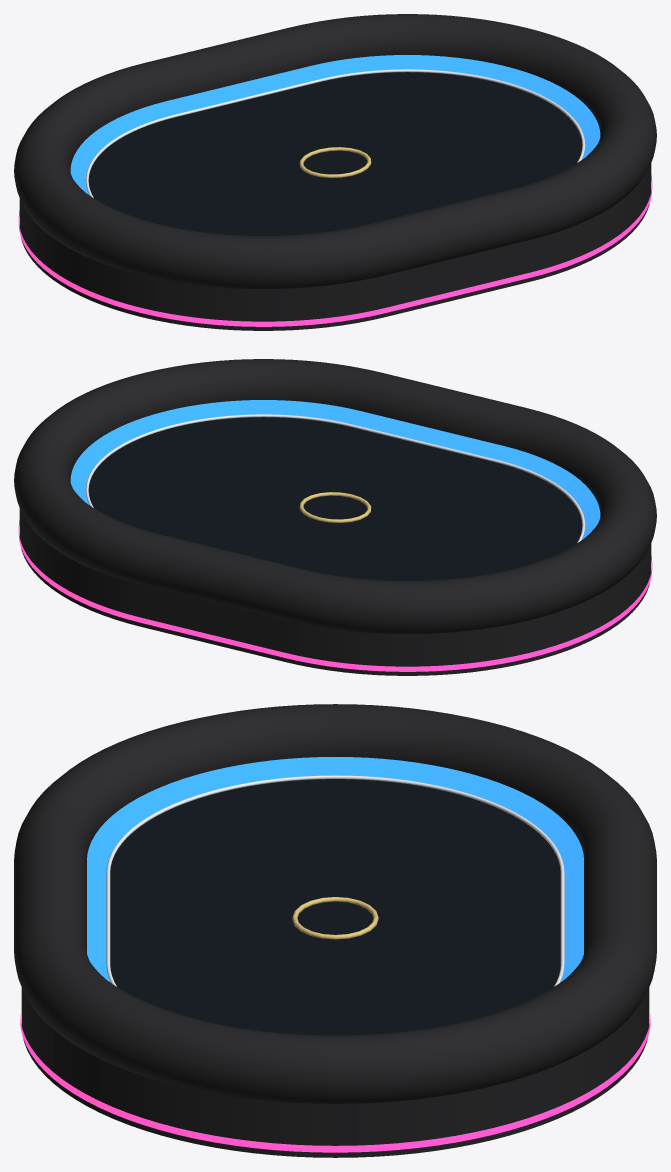
File: Tisch.glb
3 renders of one model, top to bottom at view 1: azimuth 30°, elevation 25°; view 2: azimuth 150°, elevation 25°; view 3: azimuth 270°, elevation 25°, orthographic. The views are drawn at different scales.
Visible parts, largest first — view 1: Rail, Screen, Skirt, LEDStrip, Underglow, ChromeTrim, PitEmitterRing; view 2: Rail, Screen, Skirt, LEDStrip, Underglow, ChromeTrim, PitEmitterRing; view 3: Rail, Screen, Skirt, LEDStrip, Underglow, ChromeTrim, PitEmitterRing.
Boxes of the visible parts, x1,y1,x2,y2 form: Rail: (14,14,656,288); Screen: (88,72,582,235); Skirt: (19,163,651,330); LEDStrip: (70,55,600,194); Underglow: (18,175,652,326); ChromeTrim: (85,69,585,197); PitEmitterRing: (299,147,371,177); Rail: (14,359,656,633); Screen: (88,417,582,580); Skirt: (19,508,651,675); LEDStrip: (70,400,600,539); Underglow: (18,520,652,671); ChromeTrim: (85,414,585,542); PitEmitterRing: (299,492,371,522); Rail: (14,704,656,1103); Screen: (110,779,560,1035); Skirt: (21,988,649,1157); LEDStrip: (87,757,583,982); Underglow: (20,1015,650,1152); ChromeTrim: (106,775,564,986); PitEmitterRing: (292,897,378,939).
Size of the model in its own units: 40 by 5.5 by 30.
